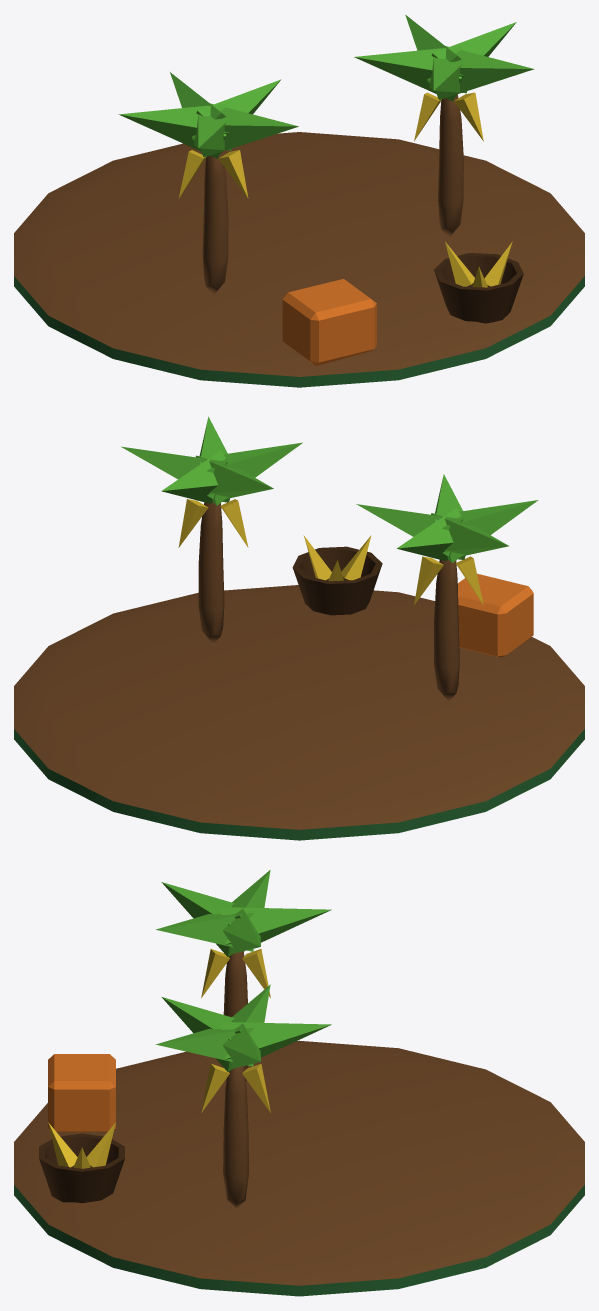
3 renders of one model, top to bottom at view 1: azimuth 30°, elevation 25°; view 2: azimuth 150°, elevation 25°; view 3: azimuth 270°, elevation 25°, orthographic.
Parts seen in each view (by area): view 1: fazenda_0_base, fazenda_1_torreta; view 2: fazenda_0_base, fazenda_1_torreta; view 3: fazenda_0_base, fazenda_1_torreta.
Boxes of the visible parts, <box> form: fazenda_0_base: <box>14,132,584,387</box>; fazenda_1_torreta: <box>118,15,534,294</box>; fazenda_0_base: <box>14,535,584,840</box>; fazenda_1_torreta: <box>121,416,538,701</box>; fazenda_0_base: <box>14,1040,584,1296</box>; fazenda_1_torreta: <box>155,870,331,1209</box>.
Size of the model in its own units: 1.28 by 0.5151 by 1.26.
